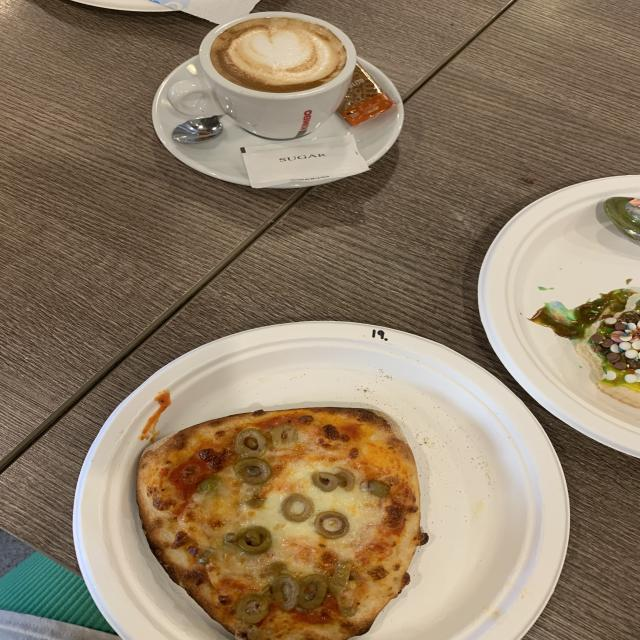Olives: (331, 562, 353, 604), (236, 458, 271, 484), (299, 575, 325, 609), (240, 524, 271, 552), (317, 511, 348, 539), (236, 429, 265, 456), (284, 494, 312, 521), (273, 578, 296, 608), (311, 472, 354, 488), (243, 596, 269, 622), (275, 426, 299, 446), (365, 481, 388, 496), (198, 477, 214, 493)
Pizza: (138, 405, 425, 638)
